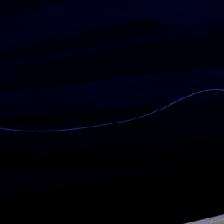door_scratch: (2, 84, 223, 134)
